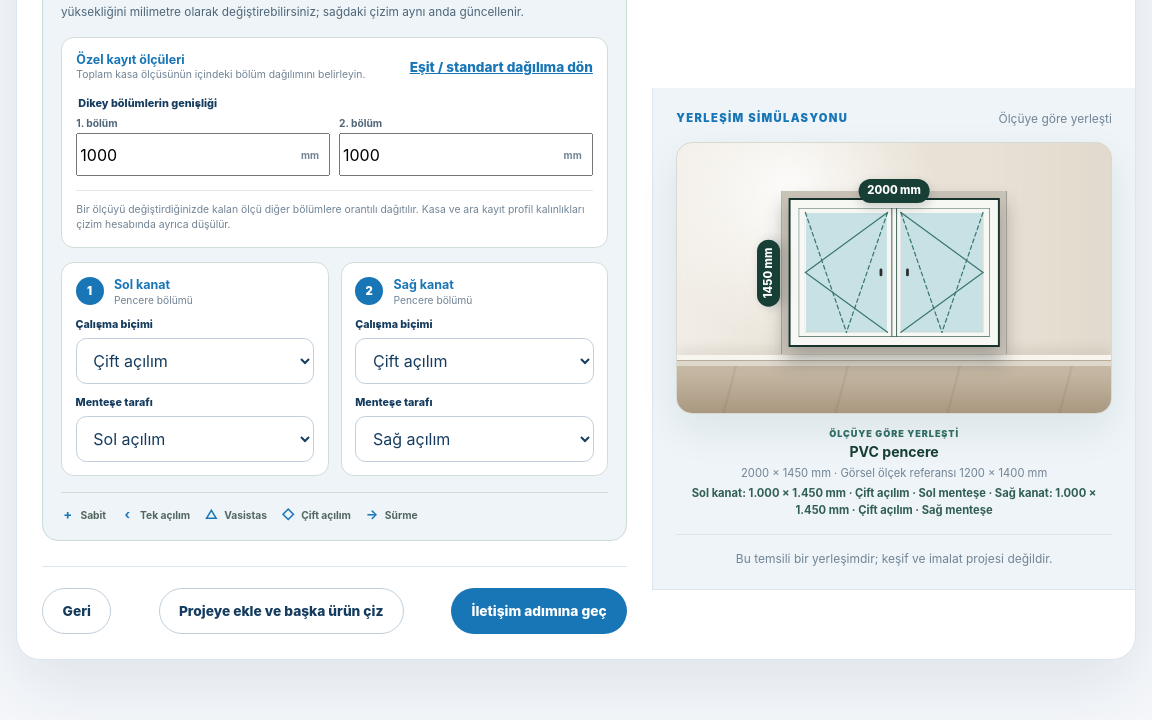
ConfiguratorComponent public boundary › keeps a fixed right sash selection in the live window drawing
(page scrolled)
Select "Sabit" in the 2nd dropdown labelled "Çalışma biçimi" at (474, 361), box [355,338,594,384]
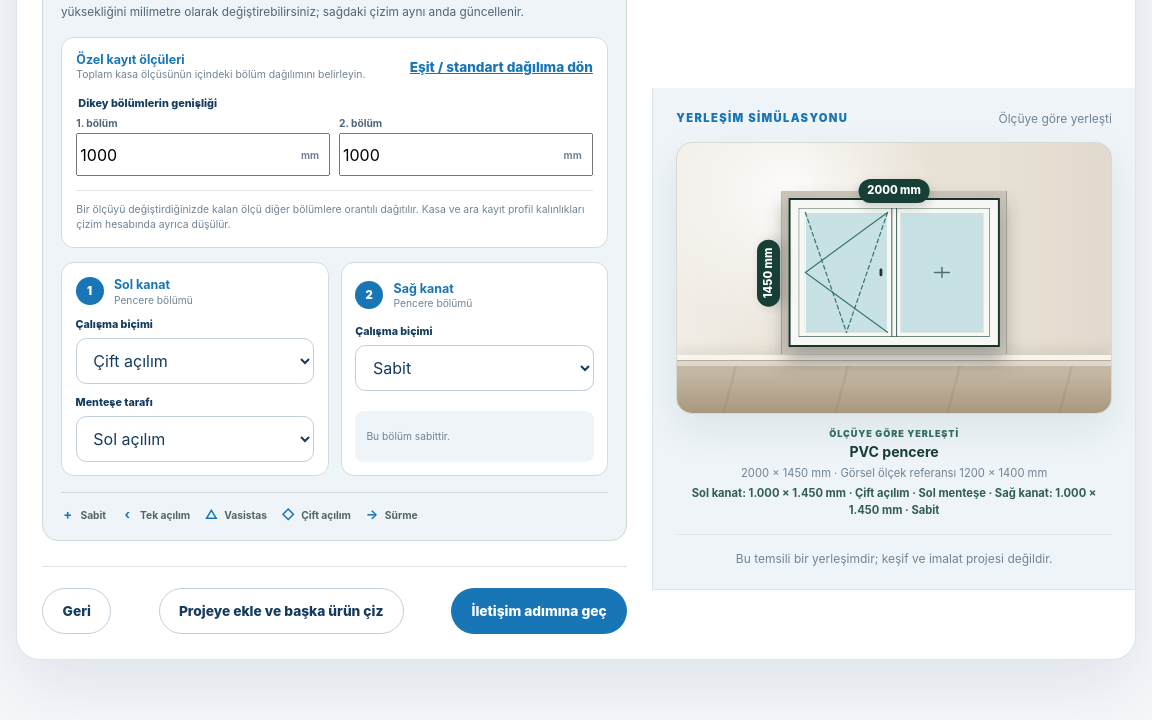
Now the label is gone
Now the text with class "joinery-summary" shows "Sağ kanat: 1.000 × 1.450 mm · Sabit", box [692,487,1096,517]
